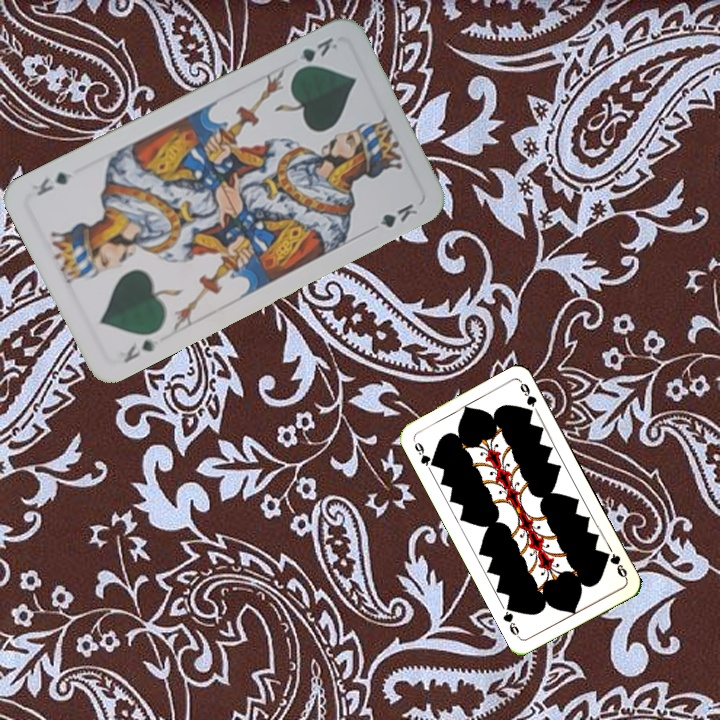G9: (600, 548, 630, 582), (409, 435, 438, 470)
GK: (290, 33, 340, 75), (119, 335, 159, 366)
